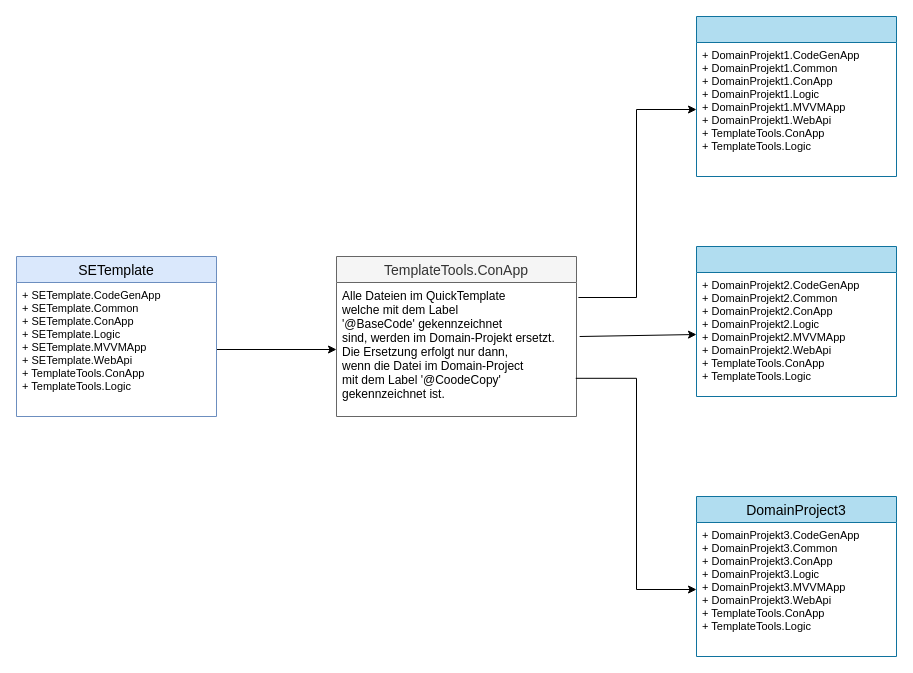
This 913x673 diagram has some shape labels left out. Each missing label, with the box of its shape:
DomainProject1: (696, 16, 896, 176)
DomainProject2: (696, 246, 896, 396)
